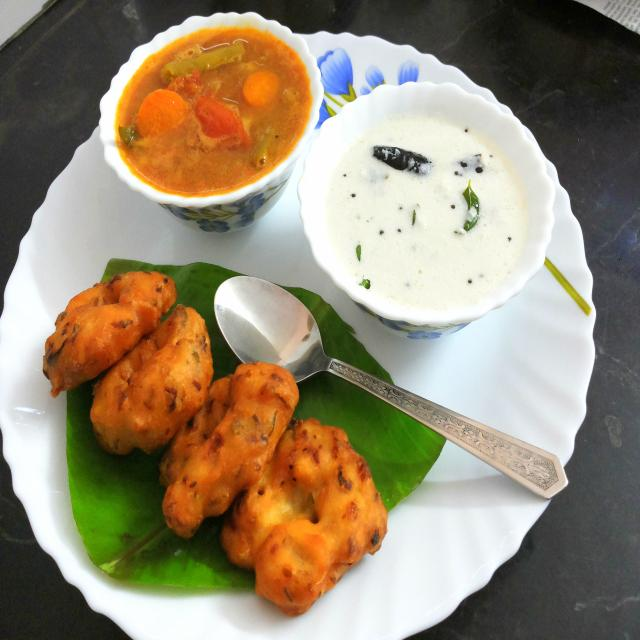SAMBAR: (116, 24, 312, 201)
VADA: (47, 265, 386, 616)
WHITE CHUTNEY: (315, 107, 531, 314)
